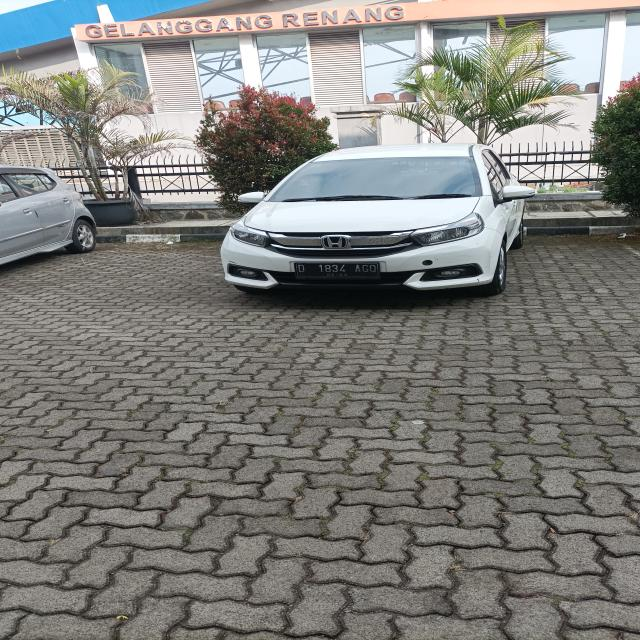license-plat: (290, 260, 386, 284)
